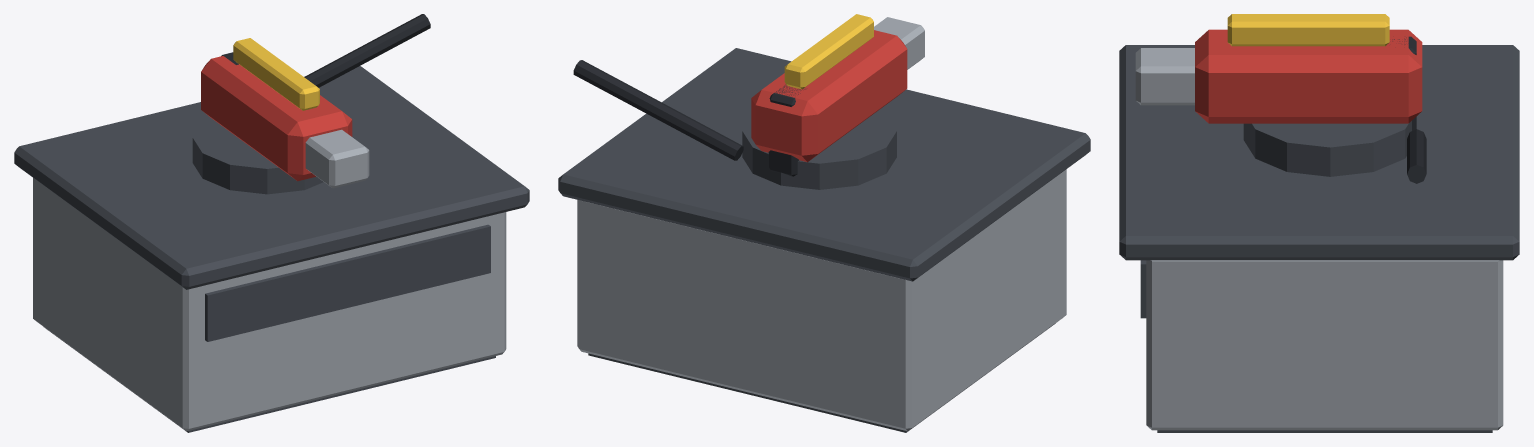
The model's file is artillery_3.glb.
3 views of the same model, side by side, from view 1: azimuth 30°, elevation 25°; view 2: azimuth 150°, elevation 25°; view 3: azimuth 270°, elevation 25° (orthographic). The views are drawn at different scales.
Parts seen in each view (by area): view 1: artillery_3_mesh_Desk, artillery_3_mesh; view 2: artillery_3_mesh_Desk, artillery_3_mesh; view 3: artillery_3_mesh_Desk, artillery_3_mesh.
Boxes of the visible parts, x1,y1,x2,y2 form: artillery_3_mesh_Desk: (14,66,529,432); artillery_3_mesh: (192,14,430,194); artillery_3_mesh_Desk: (558,48,1090,432); artillery_3_mesh: (573,14,924,189); artillery_3_mesh_Desk: (1119,45,1519,432); artillery_3_mesh: (1135,14,1426,183).
Size of the model in its own units: 0.9202 by 0.67 by 0.74.
